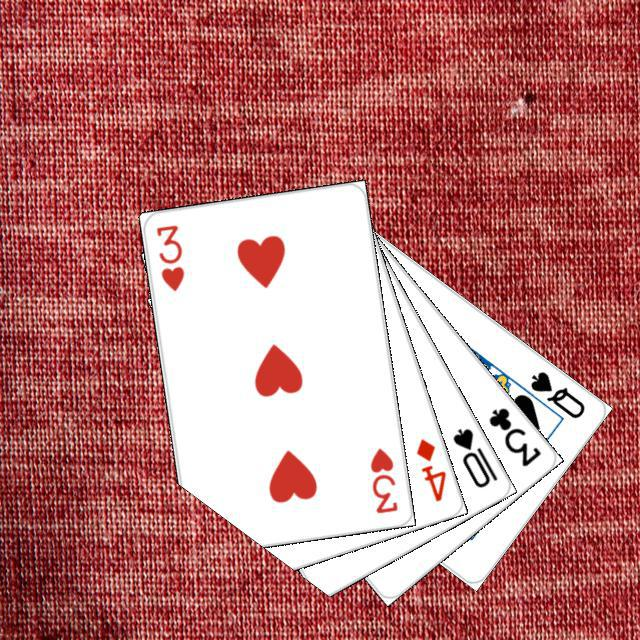10s: (447, 423, 500, 490)
3c: (483, 402, 543, 469)
3h: (151, 220, 186, 293), (365, 443, 399, 515)
4d: (411, 433, 448, 504)
Qs: (525, 366, 587, 421)
